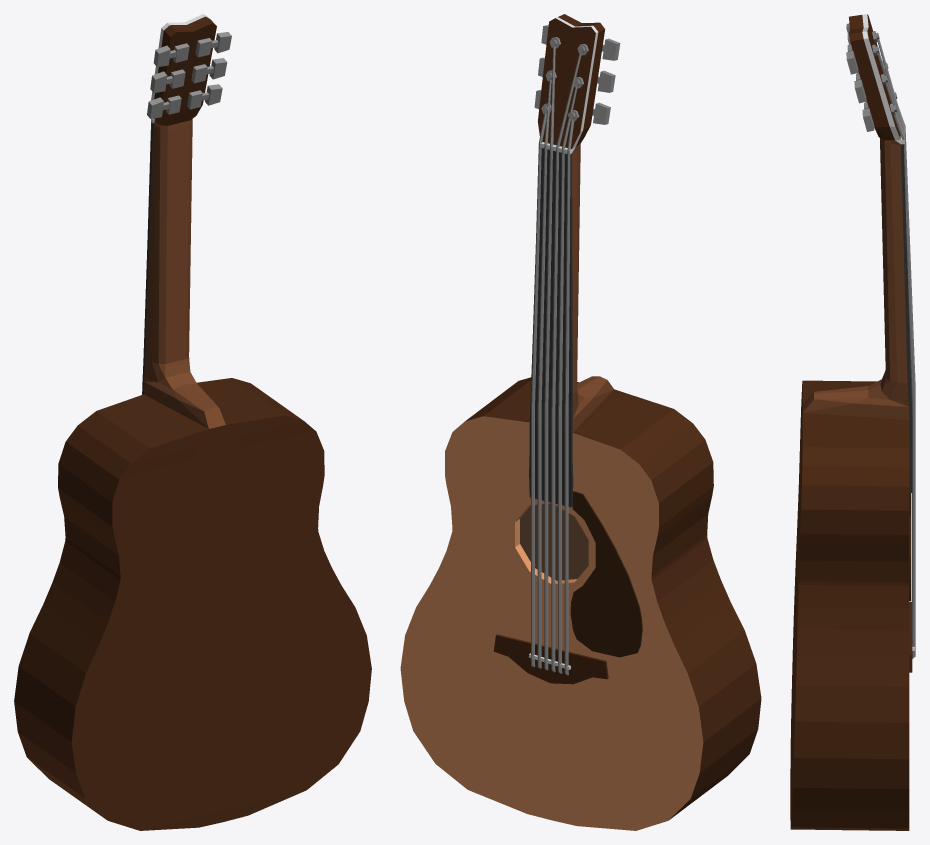
Rendered from guitar.glb.
3 renders of one model, left to right at view 1: azimuth 30°, elevation 25°; view 2: azimuth 150°, elevation 25°; view 3: azimuth 270°, elevation 25°, orthographic.
Parts seen in each view (by area): view 1: Guitar_0; view 2: Guitar_0, Strings_2, Plane_3; view 3: Guitar_0, Strings_2.
Boxes of the visible parts, x1,y1,x2,y2 form: Guitar_0: (14,14,371,830); Guitar_0: (400,14,761,830); Strings_2: (531,46,581,675); Plane_3: (570,491,642,657); Guitar_0: (790,14,914,830); Strings_2: (877,39,915,658).
Size of the model in its own units: 2.16 by 5.34 by 0.7797.
